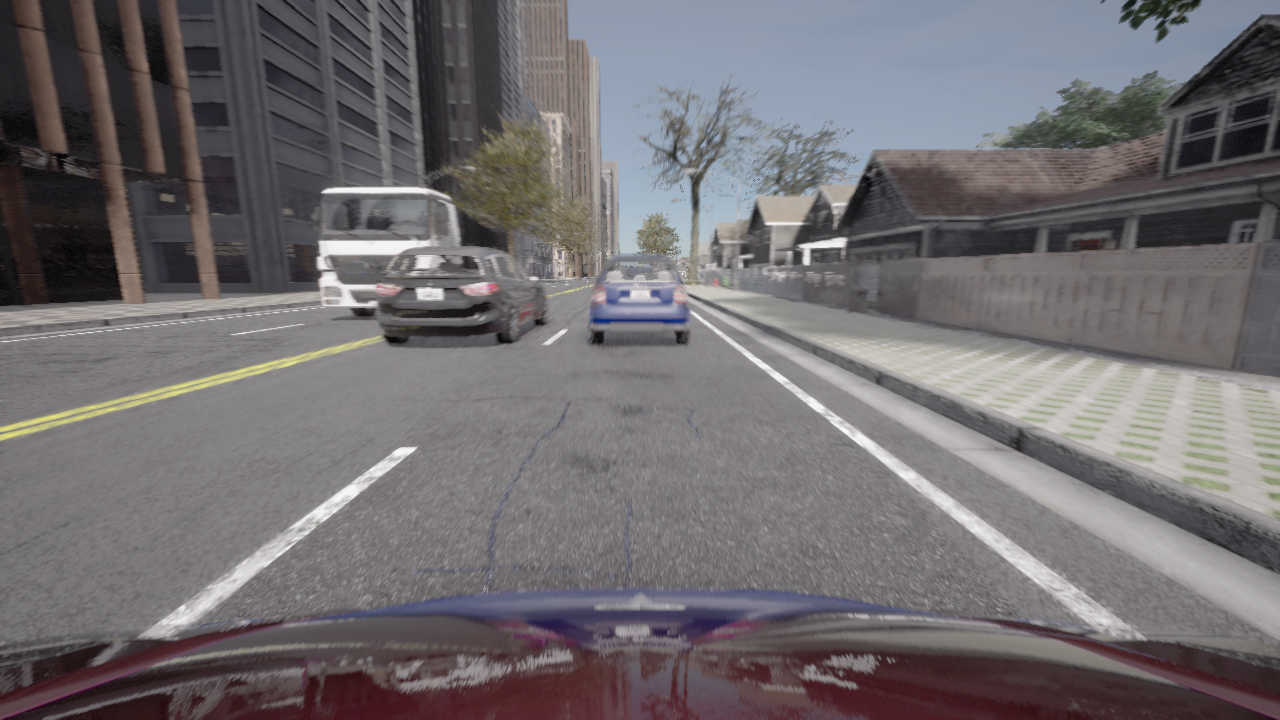cyclist: (0, 588, 1279, 719), (315, 187, 459, 316), (376, 247, 548, 343), (589, 254, 690, 344)
